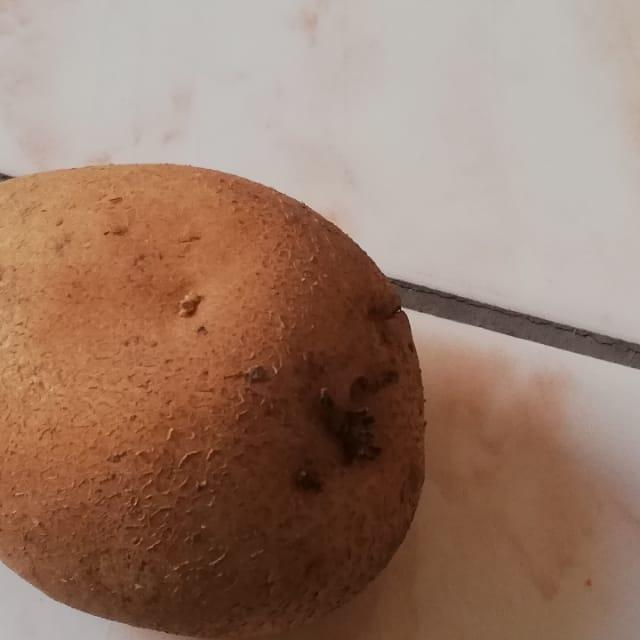potato: (0, 122, 462, 640)
